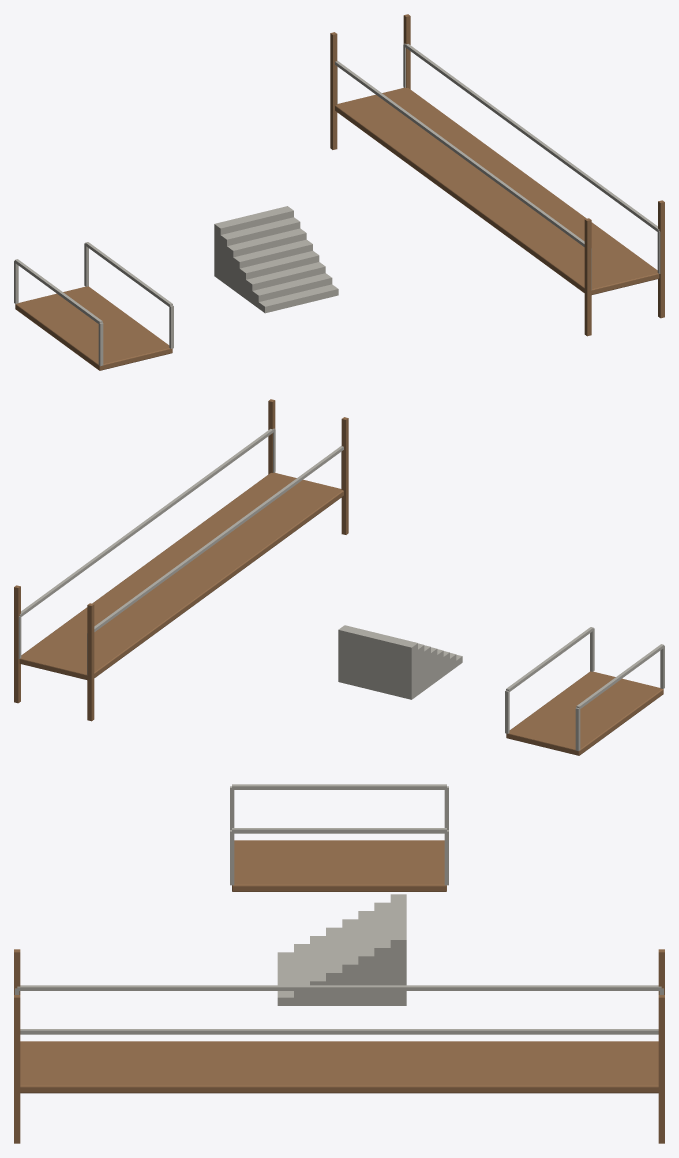
Rendered from IgidaeTrailKit_blockout.glb.
3 renders of one model, top to bottom at view 1: azimuth 30°, elevation 25°; view 2: azimuth 150°, elevation 25°; view 3: azimuth 270°, elevation 25°, orthographic. The views are drawn at different scales.
Visible parts, largest first — view 1: ENV21_IgidaeTrailKit_BridgeFloor_L0, ENV21_IgidaeTrailKit_StraightFloor_L0, ENV21_IgidaeTrailKit_BridgeRail2_L0, ENV21_IgidaeTrailKit_BridgeRail0_L0, ENV21_IgidaeTrailKit_Steps7_L0, ENV21_IgidaeTrailKit_Steps6_L0, ENV21_IgidaeTrailKit_Steps5_L0, ENV21_IgidaeTrailKit_Steps4_L0, ENV21_IgidaeTrailKit_Steps3_L0, ENV21_IgidaeTrailKit_Steps2_L0, ENV21_IgidaeTrailKit_Steps1_L0, ENV21_IgidaeTrailKit_Steps0_L0 (+5 smaller); view 2: ENV21_IgidaeTrailKit_BridgeFloor_L0, ENV21_IgidaeTrailKit_StraightFloor_L0, ENV21_IgidaeTrailKit_Steps7_L0, ENV21_IgidaeTrailKit_BridgeRail2_L0, ENV21_IgidaeTrailKit_BridgeRail0_L0, ENV21_IgidaeTrailKit_BridgeTower1S0_L0, ENV21_IgidaeTrailKit_BridgeTower0S0_L0, ENV21_IgidaeTrailKit_BridgeTower1S1_L0, ENV21_IgidaeTrailKit_StraightRail0_L0, ENV21_IgidaeTrailKit_StraightRail2_L0; view 3: ENV21_IgidaeTrailKit_BridgeFloor_L0, ENV21_IgidaeTrailKit_StraightFloor_L0, ENV21_IgidaeTrailKit_BridgeRail0_L0, ENV21_IgidaeTrailKit_BridgeRail2_L0, ENV21_IgidaeTrailKit_Steps7_L0, ENV21_IgidaeTrailKit_Steps6_L0, ENV21_IgidaeTrailKit_Steps5_L0, ENV21_IgidaeTrailKit_Steps4_L0, ENV21_IgidaeTrailKit_StraightRail2_L0, ENV21_IgidaeTrailKit_StraightRail0_L0, ENV21_IgidaeTrailKit_Steps3_L0, ENV21_IgidaeTrailKit_BridgeTower0S1_L0 (+4 smaller).
Part boxes in pixels (x1,y1,x2,y2): ENV21_IgidaeTrailKit_BridgeFloor_L0: (335, 87, 659, 294); ENV21_IgidaeTrailKit_StraightFloor_L0: (15, 286, 172, 370); ENV21_IgidaeTrailKit_BridgeRail2_L0: (404, 43, 659, 232); ENV21_IgidaeTrailKit_BridgeRail0_L0: (335, 61, 584, 246); ENV21_IgidaeTrailKit_Steps7_L0: (214, 206, 293, 280); ENV21_IgidaeTrailKit_Steps6_L0: (220, 217, 300, 284); ENV21_IgidaeTrailKit_Steps5_L0: (227, 228, 306, 289); ENV21_IgidaeTrailKit_Steps4_L0: (233, 239, 312, 294); ENV21_IgidaeTrailKit_Steps3_L0: (239, 251, 319, 298); ENV21_IgidaeTrailKit_Steps2_L0: (246, 262, 325, 303); ENV21_IgidaeTrailKit_Steps1_L0: (252, 273, 332, 308); ENV21_IgidaeTrailKit_Steps0_L0: (258, 284, 338, 313); ENV21_IgidaeTrailKit_BridgeFloor_L0: (19, 472, 343, 679); ENV21_IgidaeTrailKit_StraightFloor_L0: (506, 671, 663, 755); ENV21_IgidaeTrailKit_Steps7_L0: (338, 625, 417, 699); ENV21_IgidaeTrailKit_BridgeRail2_L0: (19, 428, 274, 616); ENV21_IgidaeTrailKit_BridgeRail0_L0: (94, 446, 343, 631); ENV21_IgidaeTrailKit_BridgeTower1S0_L0: (87, 603, 94, 721); ENV21_IgidaeTrailKit_BridgeTower0S0_L0: (341, 417, 348, 534); ENV21_IgidaeTrailKit_BridgeTower1S1_L0: (14, 585, 20, 703); ENV21_IgidaeTrailKit_StraightRail0_L0: (576, 644, 663, 709); ENV21_IgidaeTrailKit_StraightRail2_L0: (506, 627, 593, 691); ENV21_IgidaeTrailKit_BridgeFloor_L0: (20, 1041, 658, 1093); ENV21_IgidaeTrailKit_StraightFloor_L0: (232, 840, 446, 891); ENV21_IgidaeTrailKit_BridgeRail0_L0: (17, 985, 661, 990); ENV21_IgidaeTrailKit_BridgeRail2_L0: (20, 1029, 658, 1034); ENV21_IgidaeTrailKit_Steps7_L0: (390, 894, 406, 1005); ENV21_IgidaeTrailKit_Steps6_L0: (374, 902, 390, 1005); ENV21_IgidaeTrailKit_Steps5_L0: (358, 911, 374, 1005); ENV21_IgidaeTrailKit_Steps4_L0: (342, 919, 358, 1005); ENV21_IgidaeTrailKit_StraightRail2_L0: (232, 828, 446, 833); ENV21_IgidaeTrailKit_StraightRail0_L0: (232, 784, 446, 789); ENV21_IgidaeTrailKit_Steps3_L0: (326, 927, 342, 1005); ENV21_IgidaeTrailKit_BridgeTower0S1_L0: (14, 995, 20, 1143).
Bounding box in the file's own units: 13.06 × 3 × 12.12.
